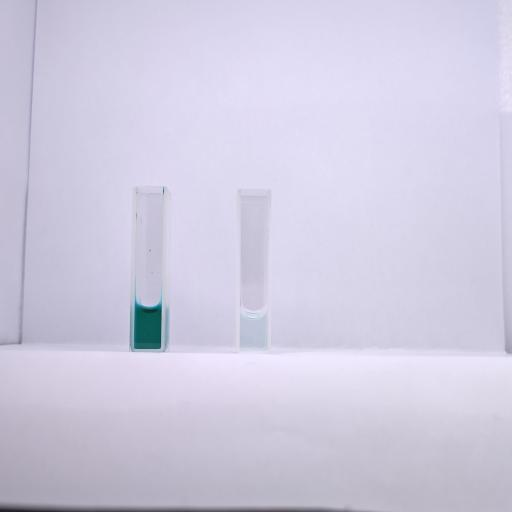cuvette: (128, 183, 169, 355), (234, 186, 272, 356)
liquid: (134, 304, 162, 349), (241, 309, 267, 350)
